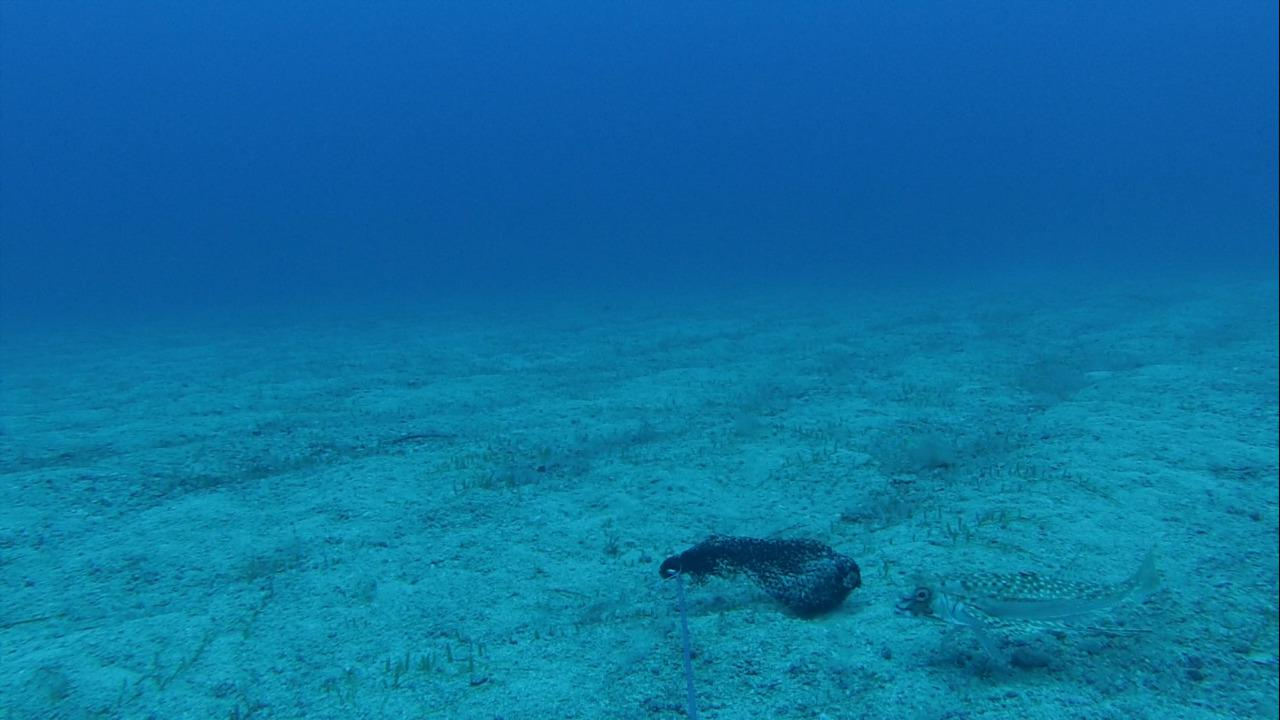dactylopterus: (882, 546, 1177, 668)
